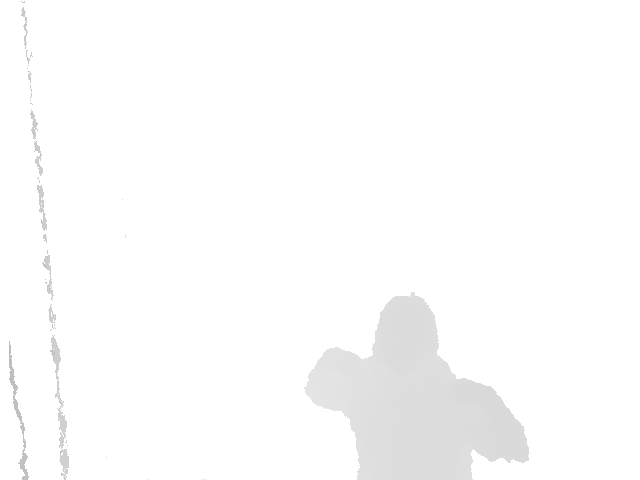head: (372, 294, 438, 367)
person: (304, 293, 530, 480)
